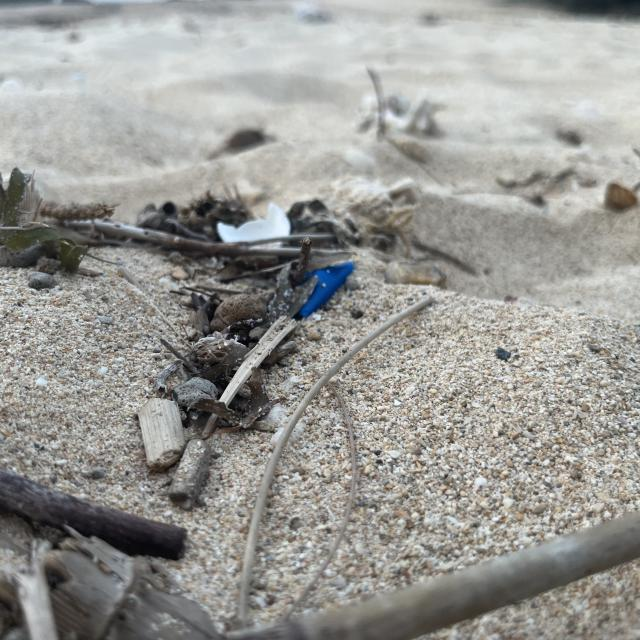stick: (225, 530, 640, 640)
trash: (289, 259, 359, 325)
